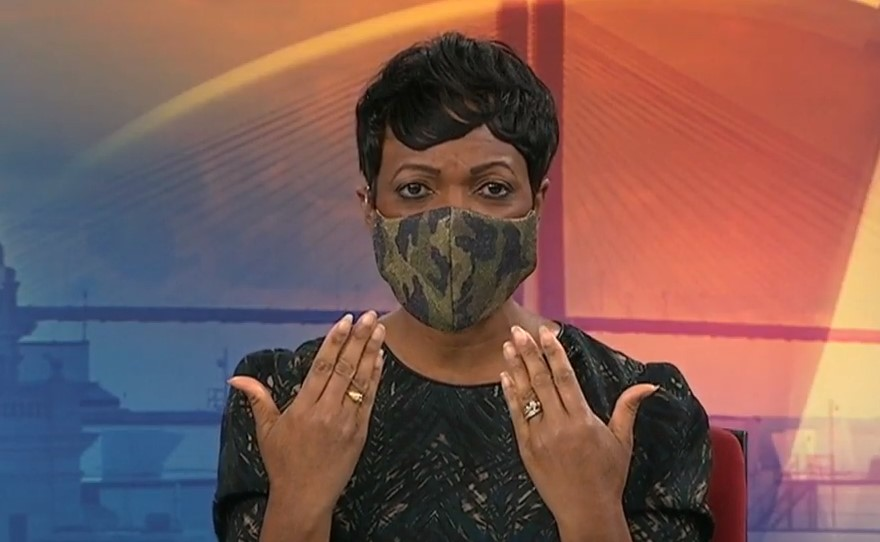face_with_mask: (352, 32, 557, 336)
